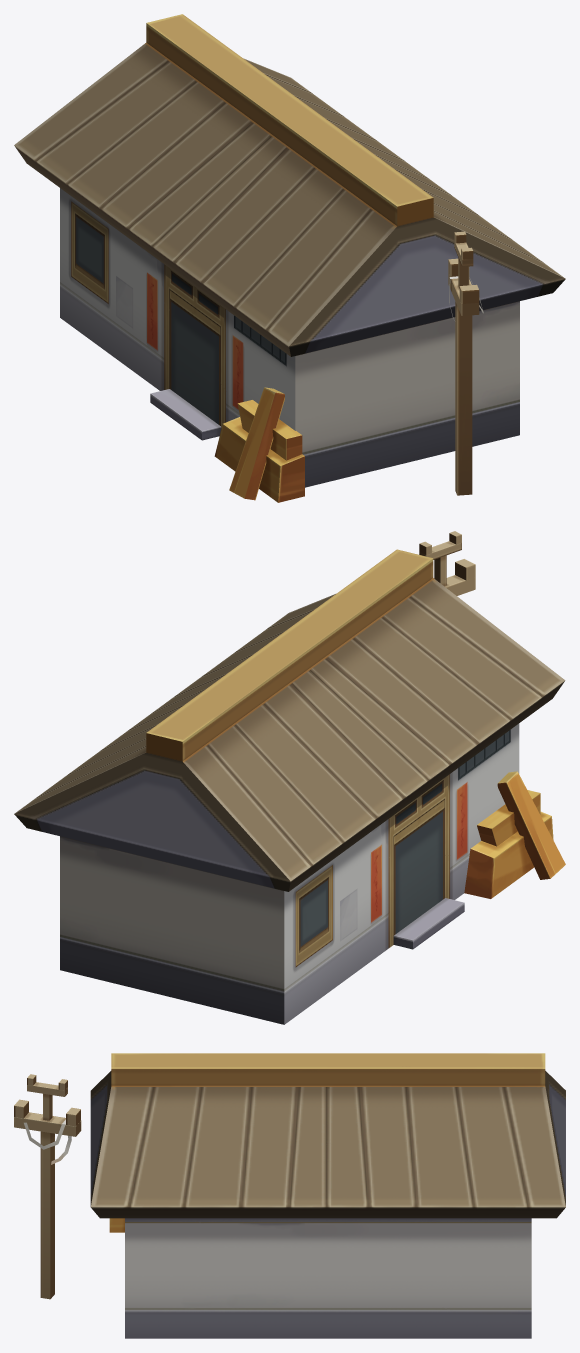
File: pingfang.FBX
The picture shows the model from 3 angles, top to bottom: view 1: azimuth 30°, elevation 25°; view 2: azimuth 150°, elevation 25°; view 3: azimuth 270°, elevation 25°; orthographic projection. The views are drawn at different scales.
Visible parts, largest first — view 1: pingfang; view 2: pingfang; view 3: pingfang.
Boxes of the visible parts, left/top/right/bottom form: pingfang: left=14, top=14, right=565, bottom=502; pingfang: left=14, top=531, right=565, bottom=1024; pingfang: left=14, top=1053, right=565, bottom=1338.
Bounding box in the file's own units: 438 × 379 × 809.
Materials: 1 (1 with a texture image).
